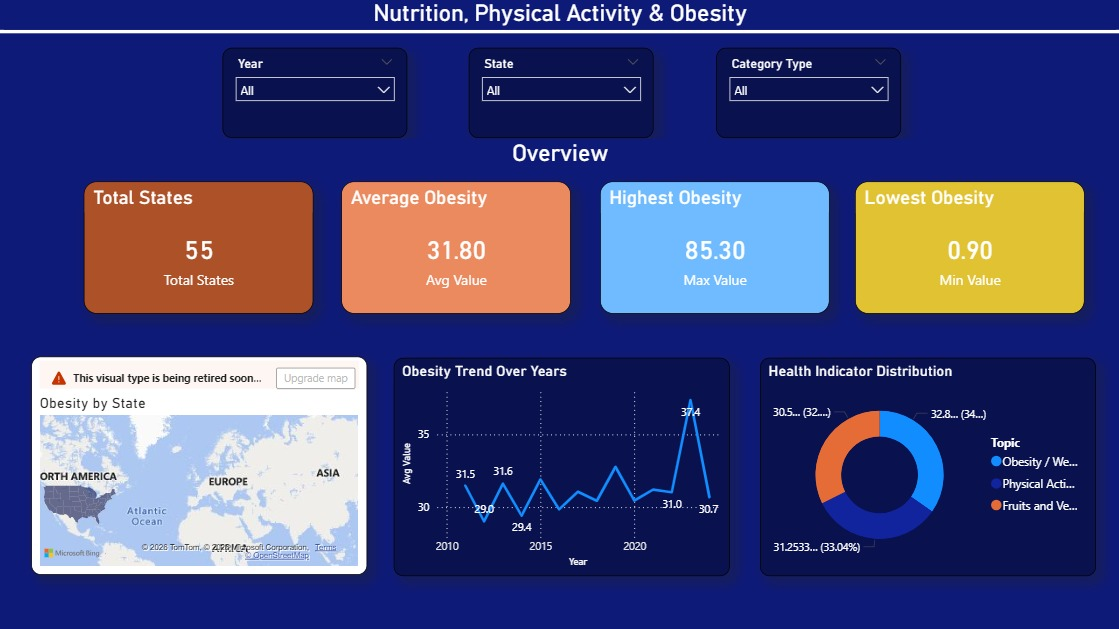

The dashboard page shown, as its layout file describes it:
{"tool":"powerbi","page":{"name":"Overview","canvas":[1280,720],"ordinal":0},"visuals":[{"type":"textbox","title":"Nutrition, Physical Activity & Obesity","box":[0,0,1280,39.2],"z":0},{"type":"slicer","fields":{"Values":["HealthData.Year"]},"box":[254.6,56,211.2,103.5],"z":1000},{"type":"slicer","fields":{"Values":["HealthData.State"]},"box":[535.8,56,211.2,103.5],"z":2000},{"type":"slicer","fields":{"Values":["HealthData.Category Type"]},"box":[818.4,56,211.2,103.5],"z":3000},{"type":"card","title":"Average Obesity ","fields":{"Values":["HealthData.Avg Value"]},"box":[389.5,208.9,262.8,150.9],"z":4000},{"type":"card","title":"Lowest Obesity","fields":{"Values":["HealthData.Min Value"]},"box":[977.1,208.9,262.8,150.9],"z":5000},{"type":"card","title":"Total States","fields":{"Values":["HealthData.Total States"]},"box":[95.7,208.9,262.8,150.9],"z":6000},{"type":"card","title":"Highest Obesity","fields":{"Values":["HealthData.Max Value"]},"box":[686,208.9,262.8,150.9],"z":7000},{"type":"filledMap","title":"Obesity by State","fields":{"Category":["HealthData.State"]},"box":[35,408.3,384.1,249.3],"z":8000},{"type":"lineChart","title":"Obesity Trend Over Years","fields":{"Category":["HealthData.Year"],"Y":["HealthData.Avg Value"]},"box":[450.1,409.7,384.1,249.3],"z":9000},{"type":"donutChart","title":"Health Indicator Distribution","fields":{"Y":["HealthData.Avg Value"],"Category":["HealthData.Topic"]},"box":[867.9,409.7,384.1,249.3],"z":10000},{"type":"textbox","title":"Overview","box":[0,160.4,1280.3,31],"z":11000}]}

Visuals, with their boxes in screenshot pixels (x1, y1, x2, y2), scaled from the page's 1280x720 canvas onto the 1119x629 screenshot:
"Nutrition, Physical Activity & Obesity" textbox: <bbox>0, 0, 1118, 34</bbox>
slicer - HealthData.Year: <bbox>223, 49, 407, 139</bbox>
slicer - HealthData.State: <bbox>468, 49, 653, 139</bbox>
slicer - HealthData.Category Type: <bbox>715, 49, 900, 139</bbox>
"Average Obesity " card: <bbox>341, 182, 570, 314</bbox>
"Lowest Obesity" card: <bbox>854, 182, 1084, 314</bbox>
"Total States" card: <bbox>84, 182, 313, 314</bbox>
"Highest Obesity" card: <bbox>600, 182, 829, 314</bbox>
"Obesity by State" filledMap: <bbox>31, 357, 366, 574</bbox>
"Obesity Trend Over Years" lineChart: <bbox>393, 358, 729, 576</bbox>
"Health Indicator Distribution" donutChart: <bbox>759, 358, 1095, 576</bbox>
"Overview" textbox: <bbox>0, 140, 1118, 167</bbox>
